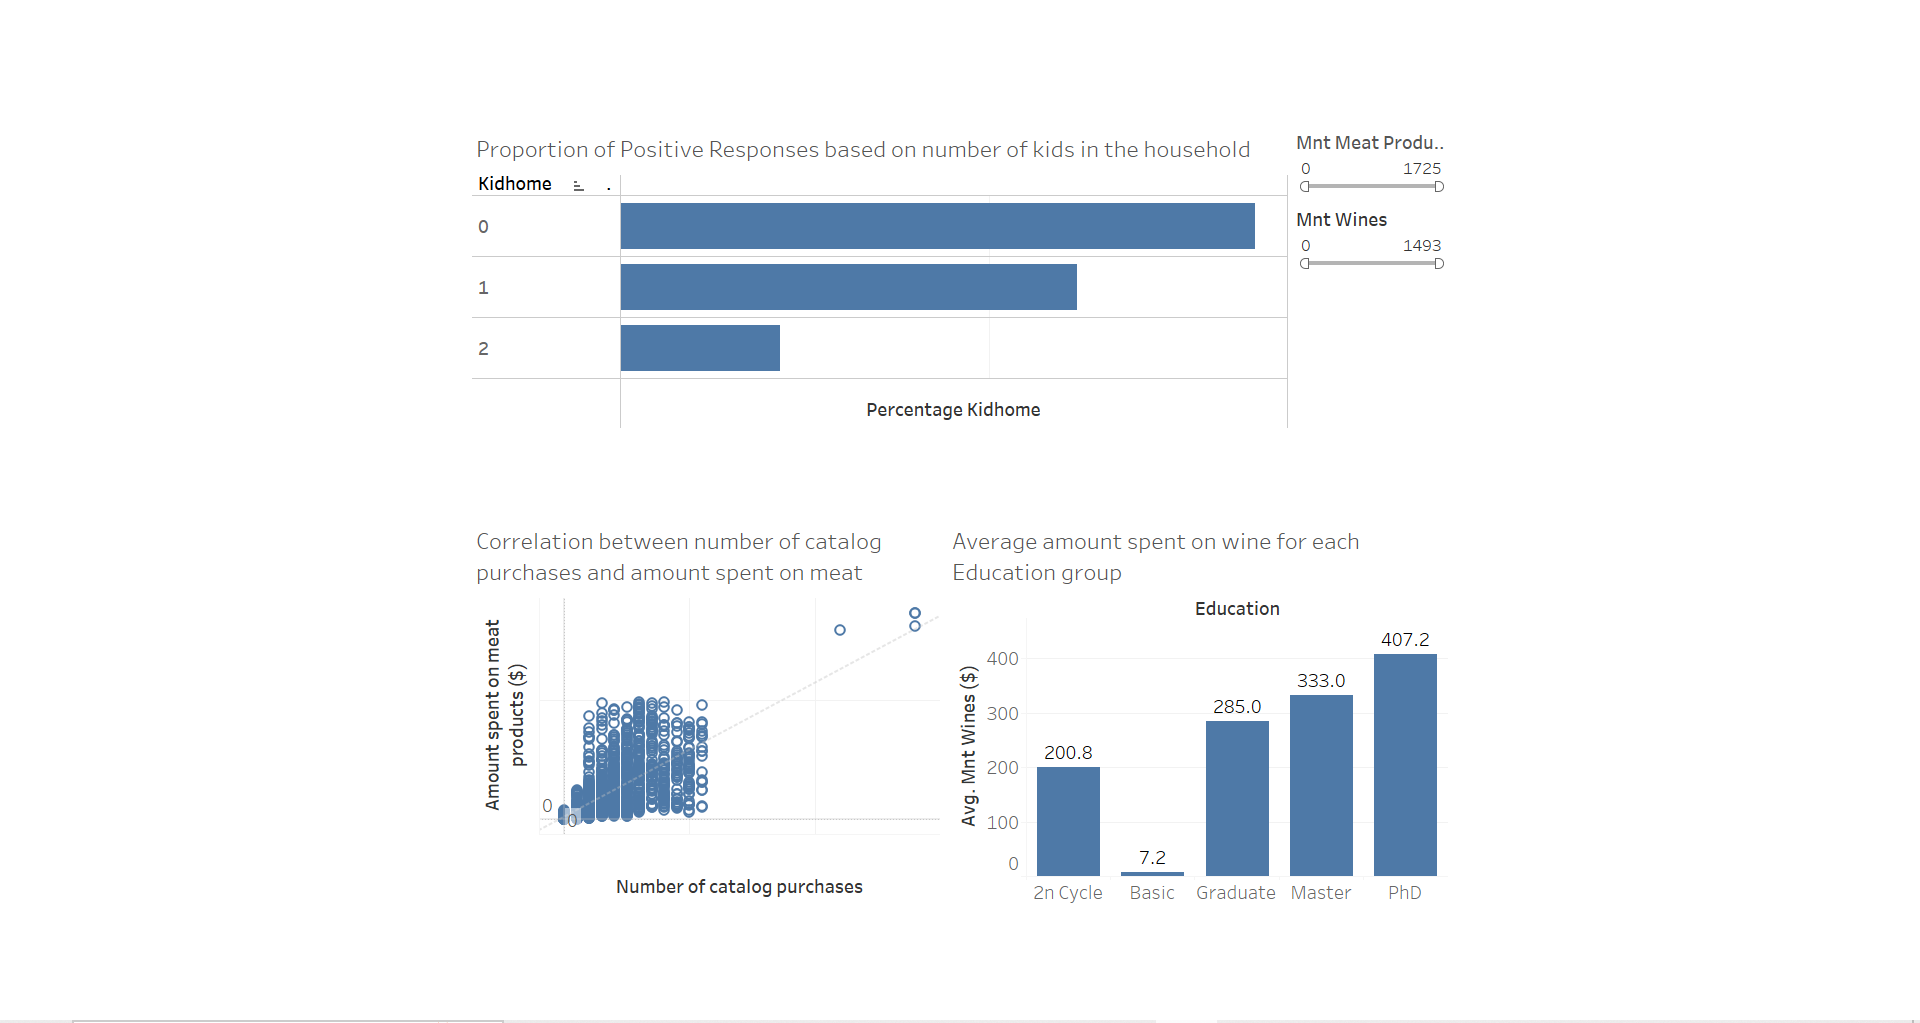

The dashboard page shown, as its layout file describes it:
{"tool":"tableau","page":{"name":"Q4","canvas":[1000,800],"ordinal":0},"visuals":[{"type":"worksheet","title":"Q1","mark":"Automatic","rows":["Kidhome","Response"],"box":[8,8,824,392]},{"type":"filter","title":"Q2","param":"[federated.0wa44mt1qpgluq1ctv20e1v8crbo].[none:MntMeatProducts:qk]","box":[832,8,160,77]},{"type":"filter","title":"Q3","param":"[federated.0wa44mt1qpgluq1ctv20e1v8crbo].[none:MntWines:qk]","box":[832,85,160,77]},{"type":"worksheet","title":"Q2","mark":"Automatic","rows":["MntMeatProducts"],"cols":["NumCatalogPurchases"],"box":[8,400,476,392]},{"type":"worksheet","title":"Q3","mark":"Automatic","rows":["MntWines"],"cols":["Education"],"box":[484,400,508,392]}]}

Visuals, with their boxes on the page's 1000x800 design canvas (x1, y1, x2, y2). These are canvas units, not pixel positions in the 1920x1023 screenshot, which may show the page scaled, cropped or inside an application window:
"Q1" worksheet: (8, 8, 832, 400)
"Q2" filter: (832, 8, 992, 85)
"Q3" filter: (832, 85, 992, 162)
"Q2" worksheet: (8, 400, 484, 792)
"Q3" worksheet: (484, 400, 992, 792)
